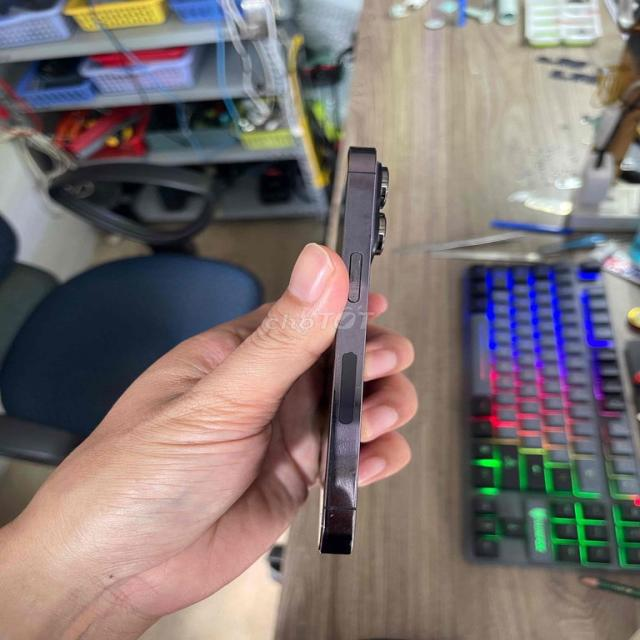gen_14: (287, 134, 395, 558)
